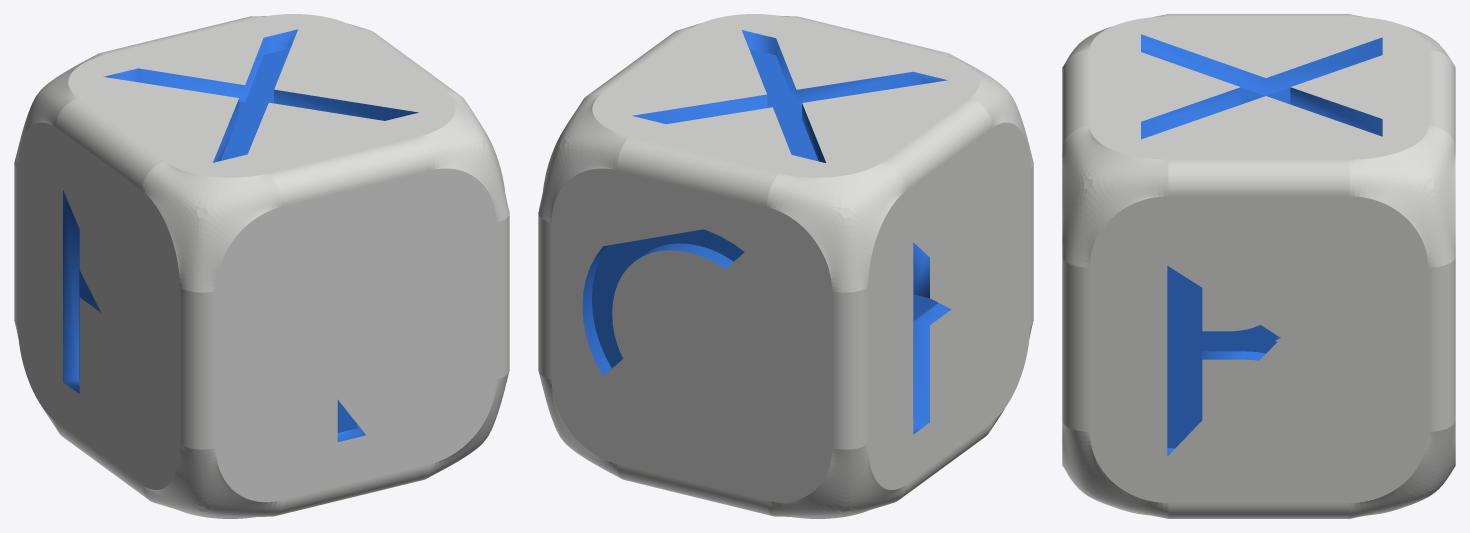
File: BoggleDice.fbx_Die0.fbx
3 renders of one model, left to right at view 1: azimuth 30°, elevation 25°; view 2: azimuth 150°, elevation 25°; view 3: azimuth 270°, elevation 25°, orthographic. The views are drawn at different scales.
Parts seen in each view (by area): view 1: Die0; view 2: Die0; view 3: Die0.
Boxes of the visible parts, <box> form: Die0: <box>14,14,509,518</box>; Die0: <box>538,14,1033,518</box>; Die0: <box>1062,14,1455,518</box>.
Bounding box in the file's own units: 200 × 200 × 200.
